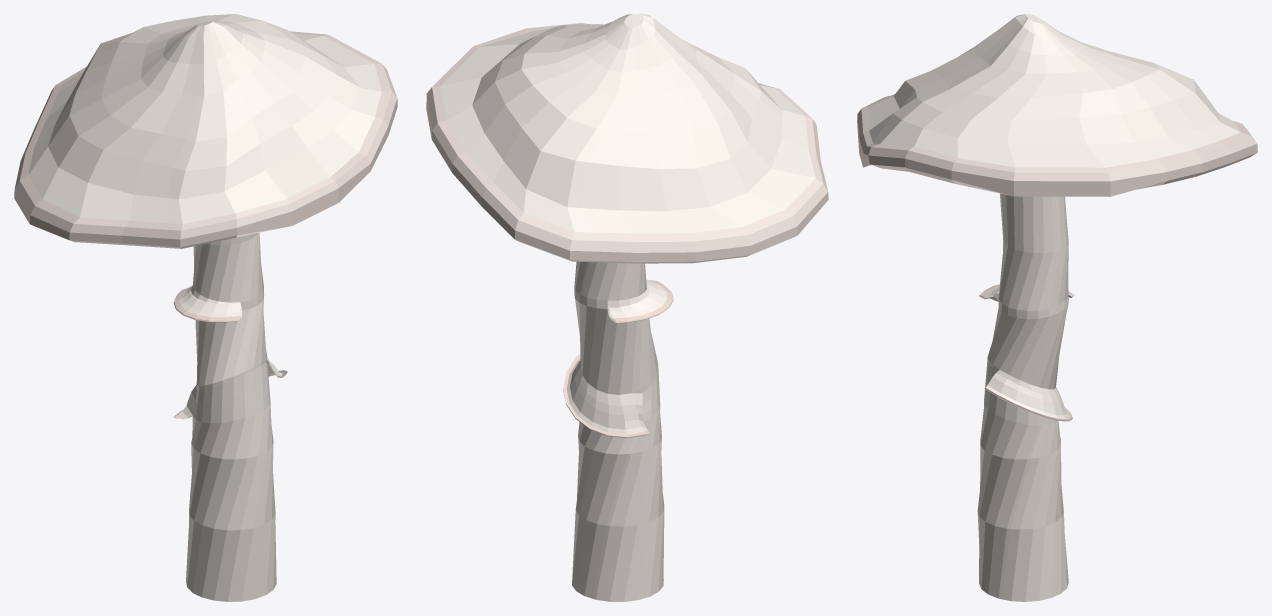
File: Mushroom_Large_03.fbx
3 views of the same model, side by side, from view 1: azimuth 30°, elevation 25°; view 2: azimuth 150°, elevation 25°; view 3: azimuth 270°, elevation 25° (orthographic). The views are drawn at different scales.
Visible parts, largest first — view 1: large_sized_mshrm_03; view 2: large_sized_mshrm_03; view 3: large_sized_mshrm_03.
Part boxes in pixels (bbox=[...]): large_sized_mshrm_03: bbox=[14, 14, 397, 601]; large_sized_mshrm_03: bbox=[426, 14, 828, 601]; large_sized_mshrm_03: bbox=[857, 14, 1257, 601].
Bounding box in the file's own units: 14.09 × 22.32 × 14.56.
1 material, 1 textured.
